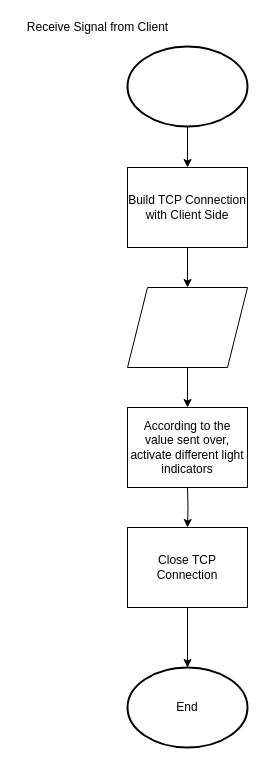
The diagram is 265 pixels wide and 765 high, and some of its shapes have lost their labels. The shapes that lost their labels are listed below. From the top down, each one's centre as x and y in pixels, then its label:
At [187,86]: "Start".
At [187,327]: "Read data that is sent over".
